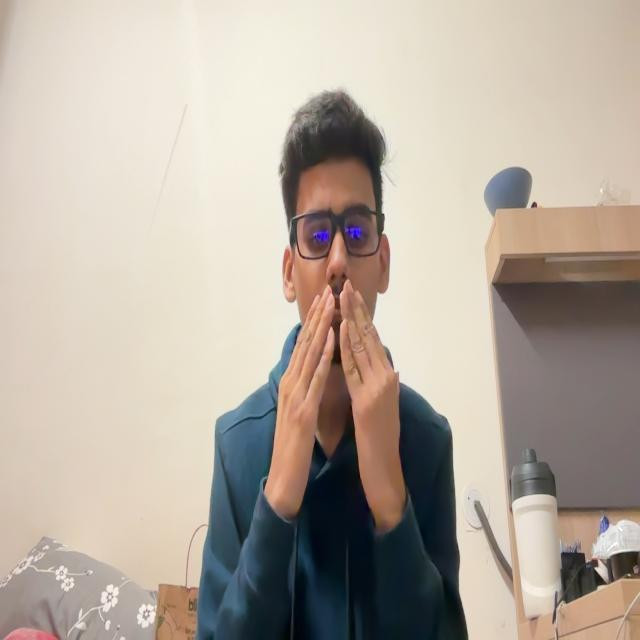Thanks: (252, 268, 434, 516)
